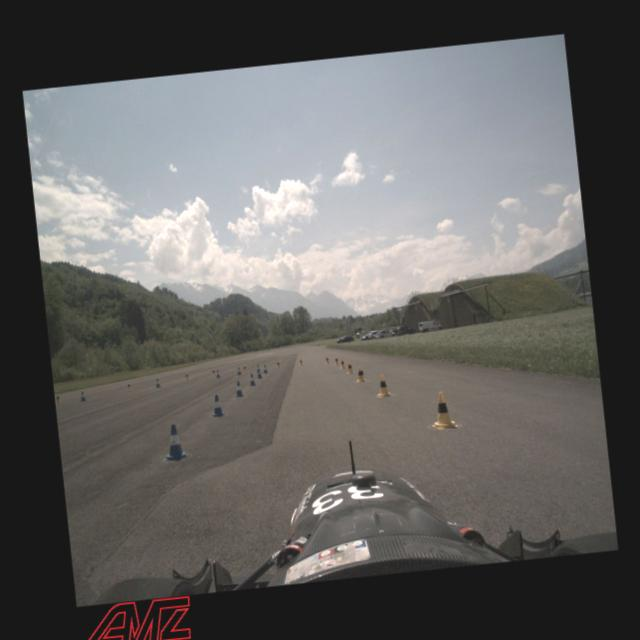blue_cone: (158, 422, 190, 462), (209, 392, 225, 418), (232, 380, 245, 397), (247, 372, 256, 386), (78, 391, 86, 402), (255, 368, 262, 378), (262, 364, 268, 374), (154, 378, 160, 388), (215, 369, 220, 378), (236, 366, 241, 374), (256, 363, 260, 372)
yellow_cone: (426, 389, 458, 431), (374, 373, 392, 398), (354, 364, 367, 382), (344, 359, 354, 374), (338, 357, 345, 369), (54, 392, 61, 403), (125, 382, 132, 392), (332, 354, 338, 364), (297, 356, 303, 366), (275, 359, 281, 367), (324, 355, 329, 364), (211, 367, 216, 376), (184, 372, 189, 379), (242, 364, 246, 372)
